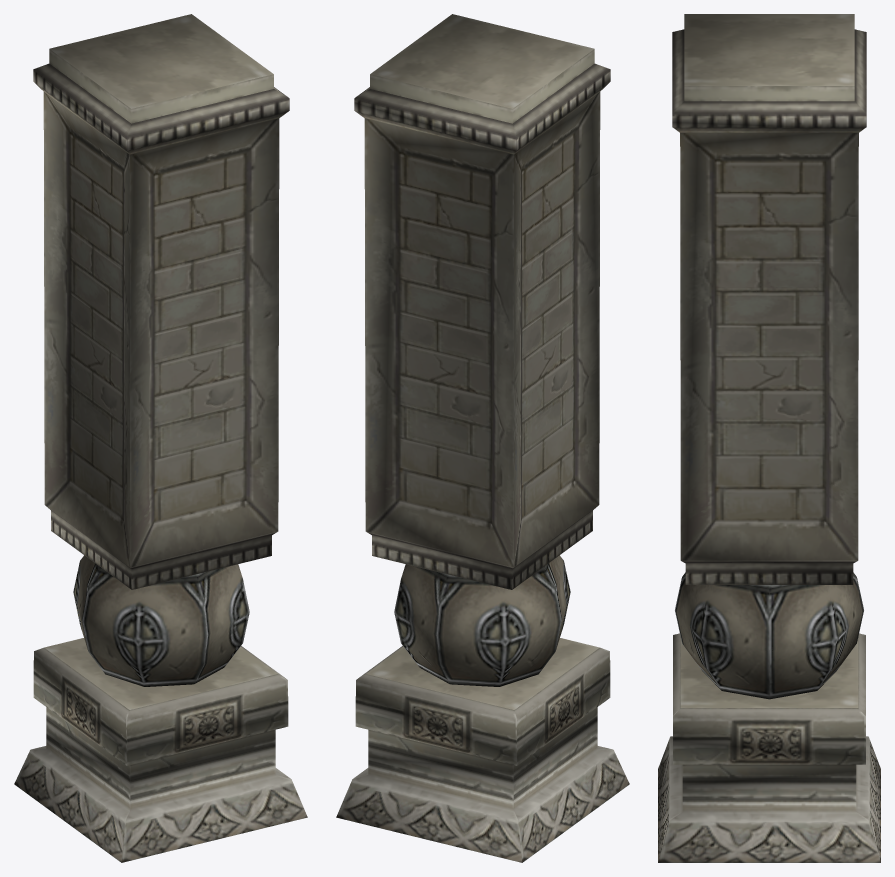
File: GY_shizhu001.fbx
3 renders of one model, left to right at view 1: azimuth 30°, elevation 25°; view 2: azimuth 150°, elevation 25°; view 3: azimuth 270°, elevation 25°, orthographic. The views are drawn at different scales.
Parts seen in each view (by area): view 1: GY_shizhu001; view 2: GY_shizhu001; view 3: GY_shizhu001.
Boxes of the visible parts, x1=… form: GY_shizhu001: x1=14, y1=14, x2=307, y2=862; GY_shizhu001: x1=336, y1=14, x2=629, y2=862; GY_shizhu001: x1=658, y1=14, x2=880, y2=862.
Bounding box in the file's own units: 127 × 480 × 127.
